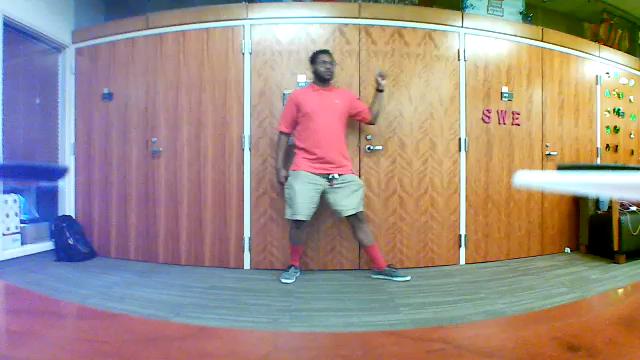up: (368, 60, 393, 92)
